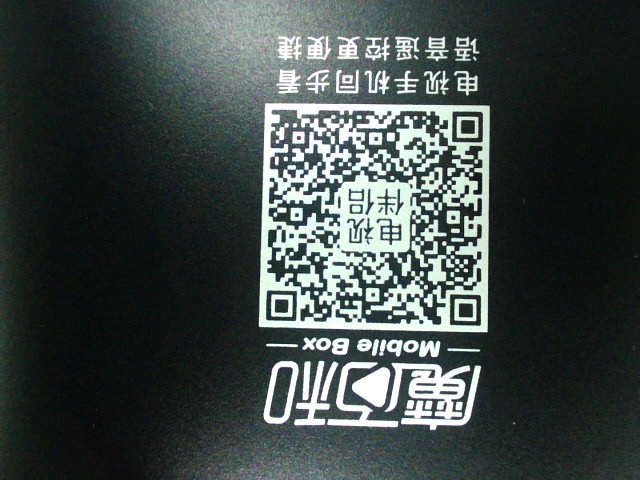AZ_MobileBox: (251, 30, 498, 436)
